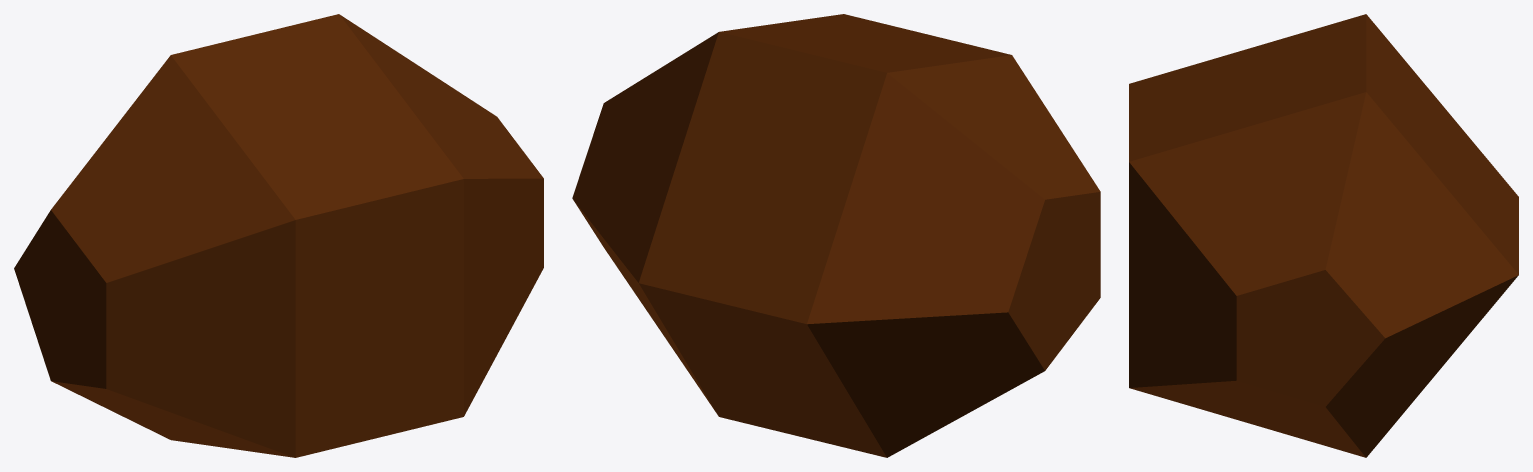
The model's file is kiwi.fbx.
3 views of the same model, side by side, from view 1: azimuth 30°, elevation 25°; view 2: azimuth 150°, elevation 25°; view 3: azimuth 270°, elevation 25° (orthographic). The views are drawn at different scales.
Visible parts, largest first — view 1: Kiwi; view 2: Kiwi; view 3: Kiwi.
Boxes of the visible parts, bbox=[...] form: Kiwi: bbox=[14, 14, 543, 457]; Kiwi: bbox=[572, 14, 1100, 457]; Kiwi: bbox=[1129, 14, 1518, 457].
Size of the model in its own units: 4.5 by 3.73 by 3.6.
